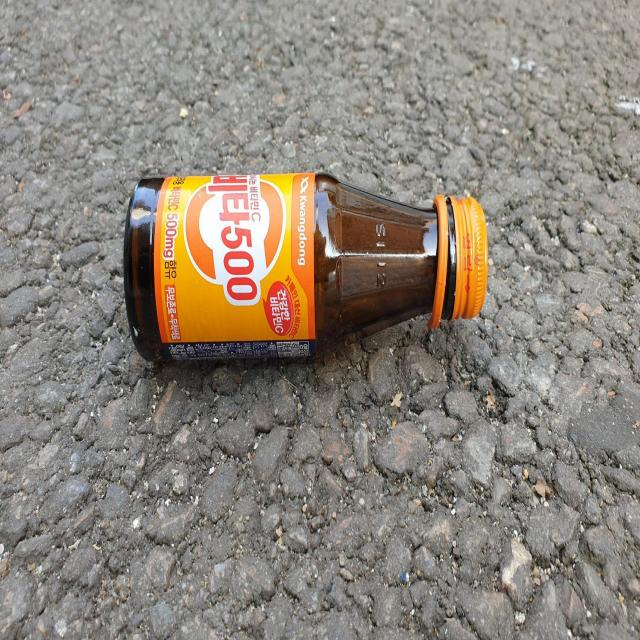glass: (123, 172, 488, 359)
